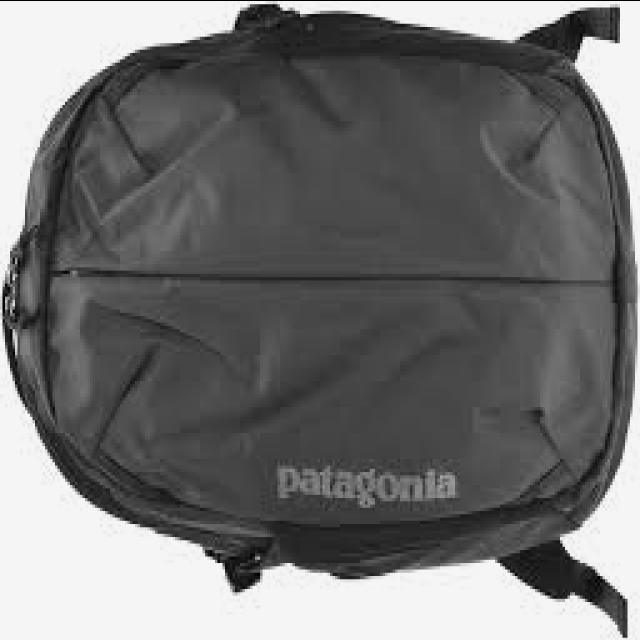backpack: (1, 4, 636, 640)
